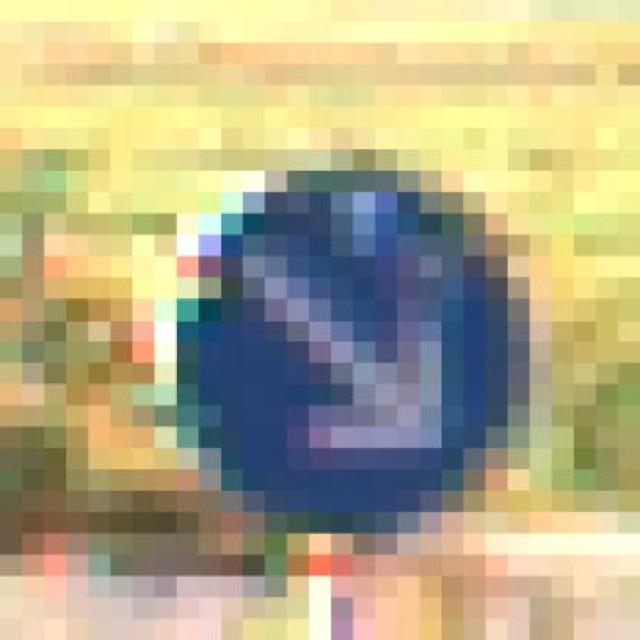Keep-Right: (132, 107, 552, 598)
